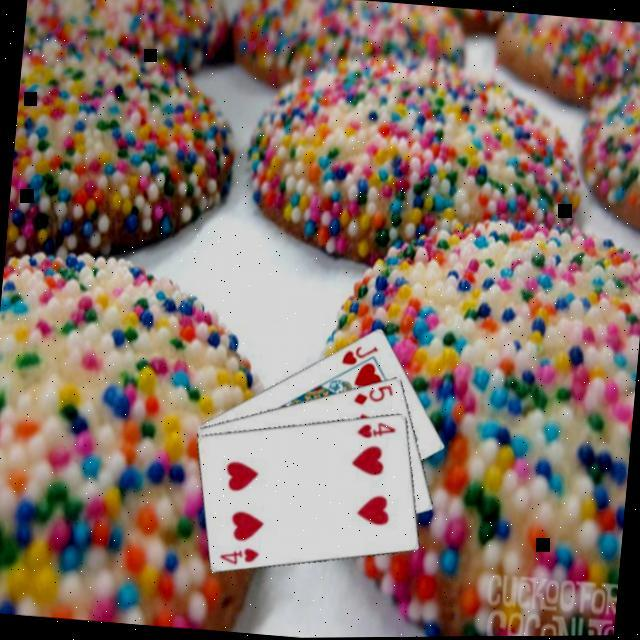4H: (215, 540, 261, 568), (352, 416, 398, 442)
5D: (349, 378, 395, 410)
JH: (336, 339, 381, 369)
